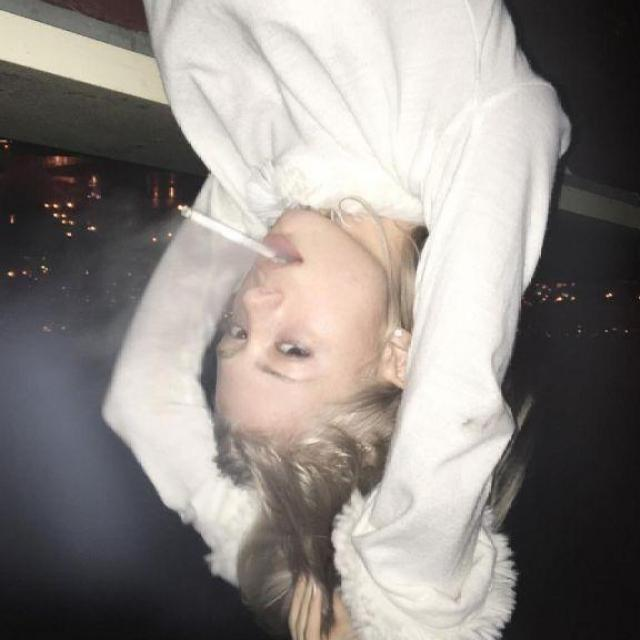cigarette: (139, 187, 310, 270)
